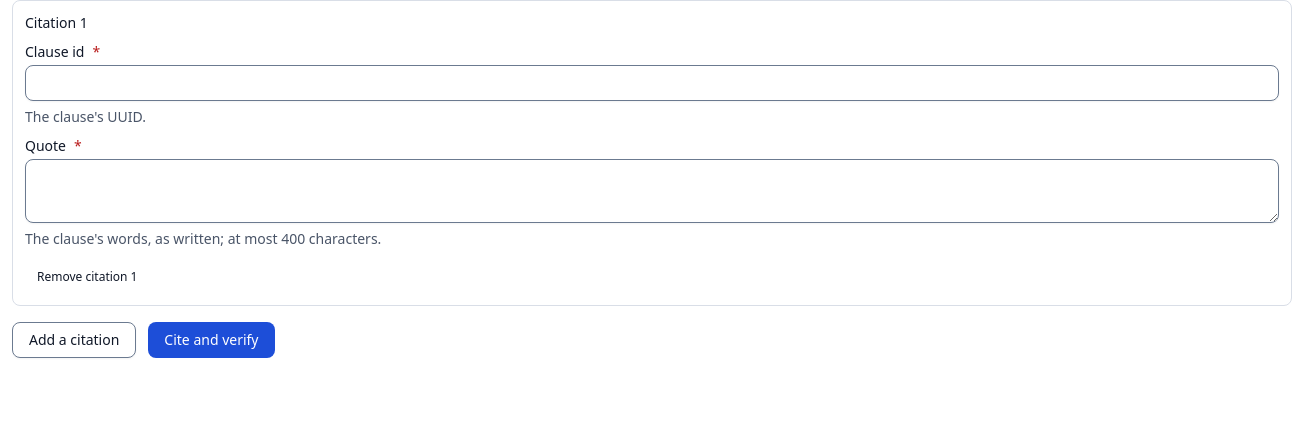
CitationsEditor › lists a form-level refusal without a problem
What coordinates should you click on to do the following:
click the button "Cite and verify"
I would click on:
 (211, 340)
Its box is [148,322,274,358].
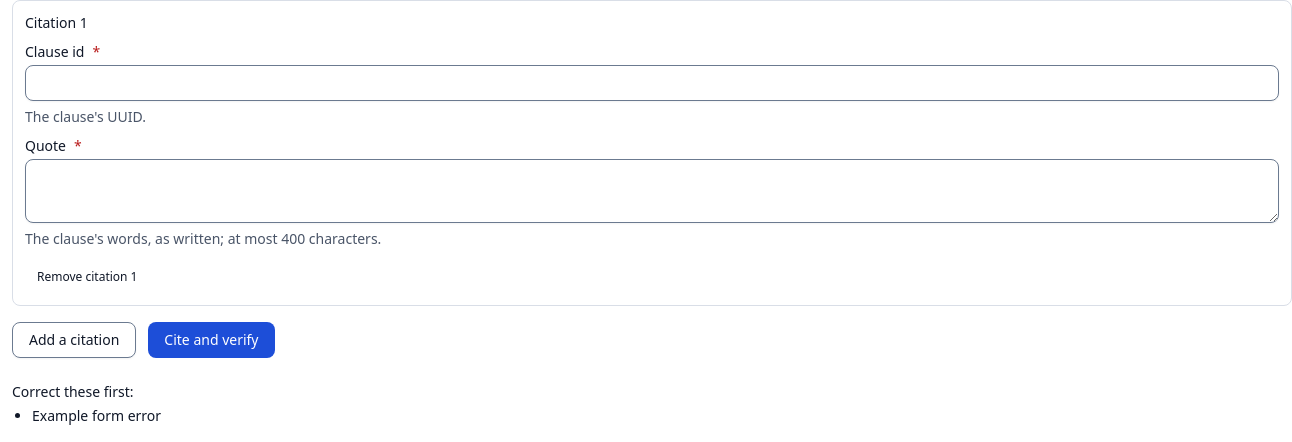
Check: the text "Correct these first:" is shown, box [12,382,134,401]
Check: the list item "Example form error" is shown, box [32,406,161,425]
